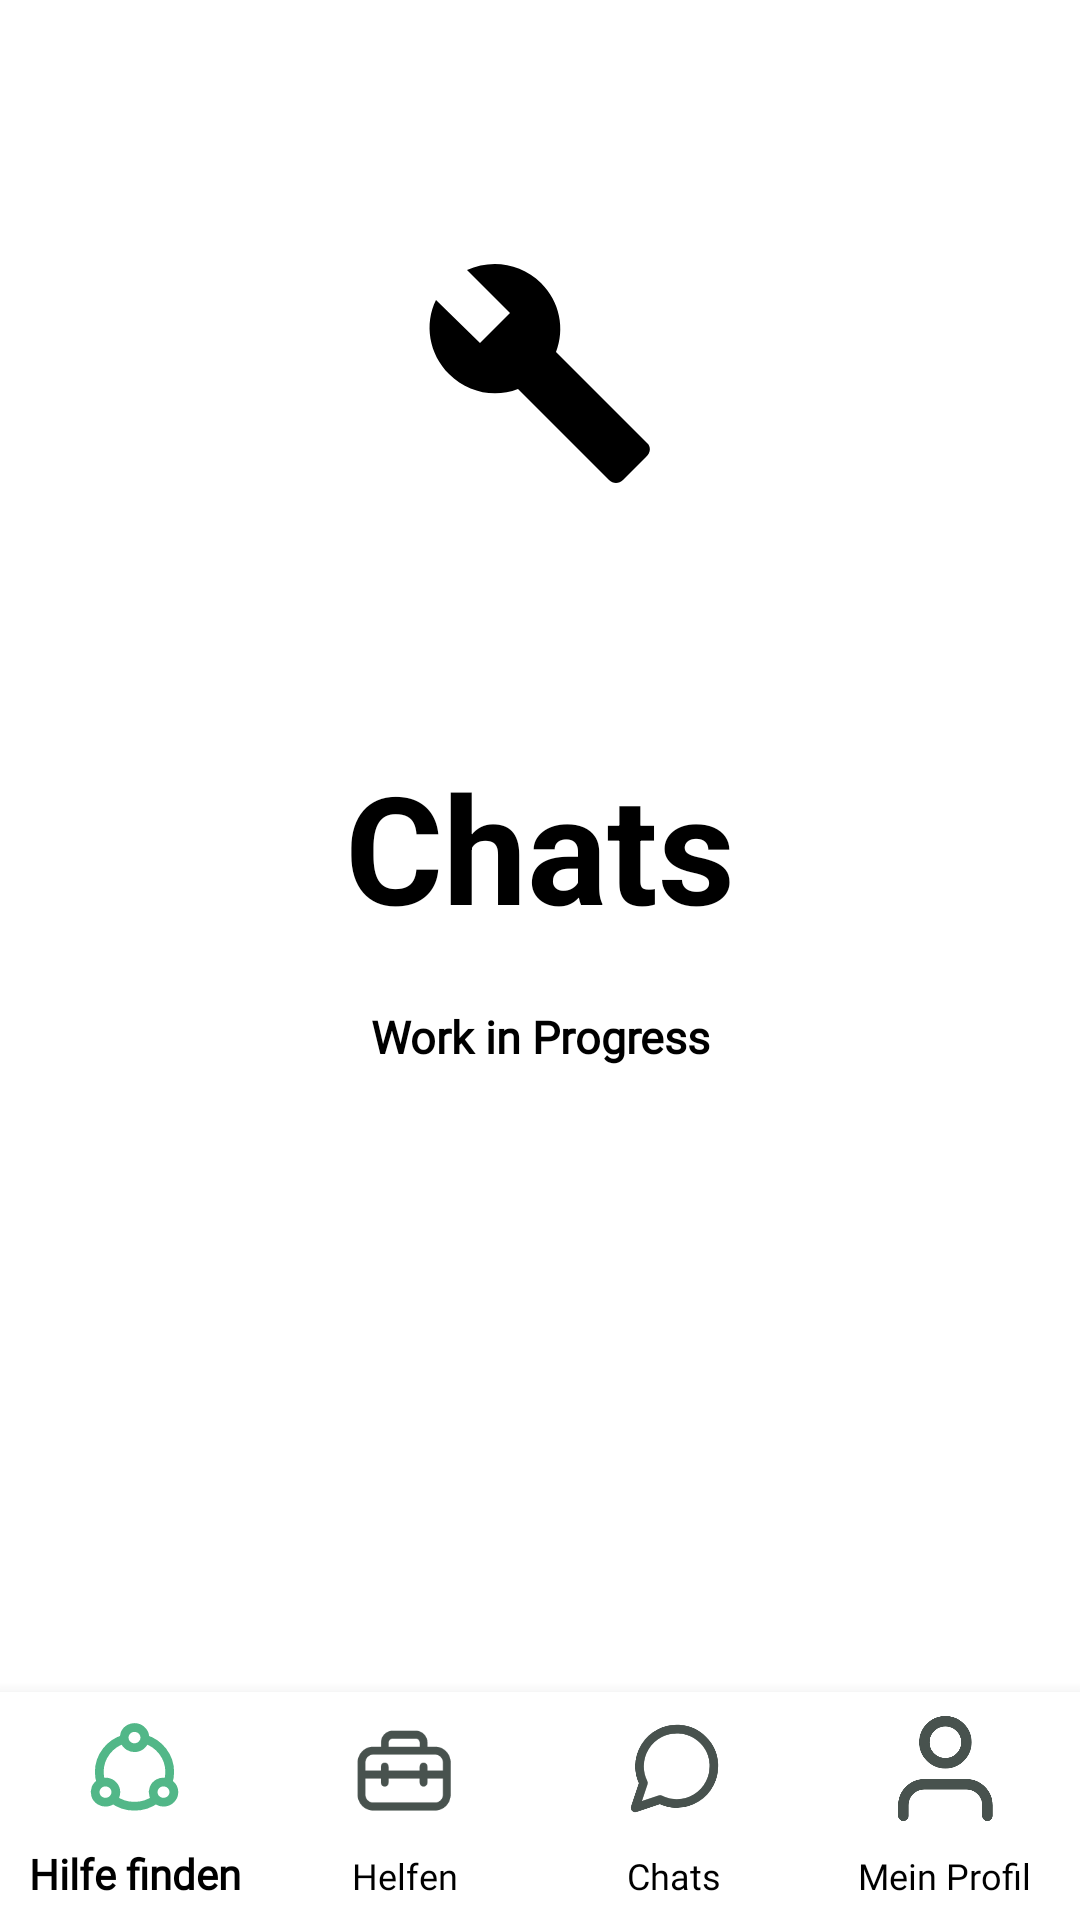

Locate icon controls on the screen. Image size 1080 × 1920, boxes as box(x1, y1, x2, y2).
build: box(429, 264, 650, 483)
